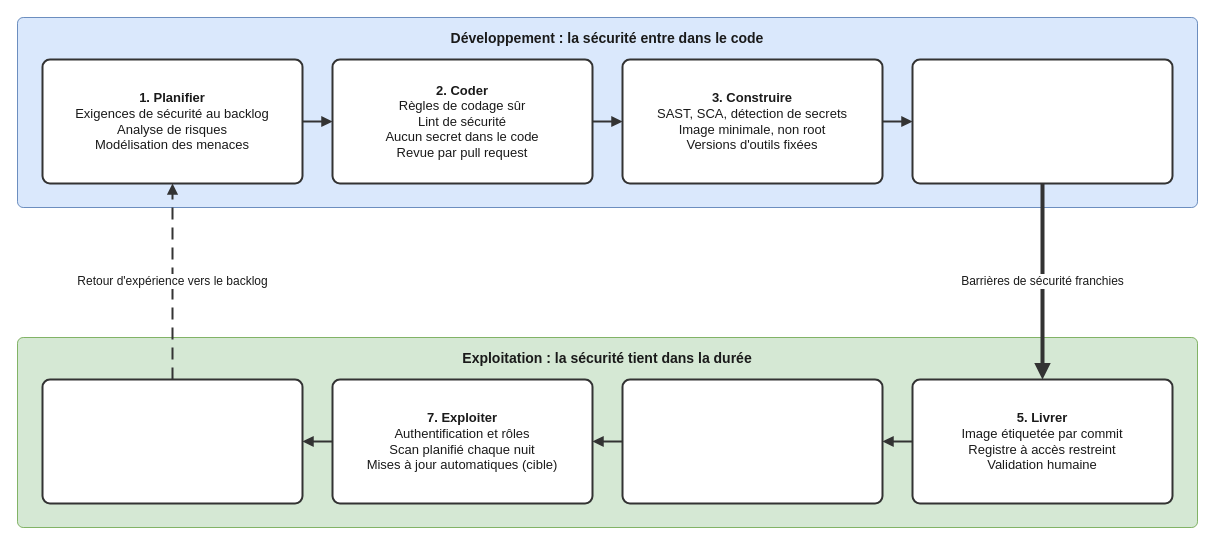
The diagram is 1215 pixels wide and 545 high, and some of its shapes have lost their labels. The centre of each missing label's shape, as x and y in pixels:
4. Tester Tests des contrôles d'accès Scan de l'image DAST (cible): point (1042, 121)
6. Déployer Secrets du cluster HTTPS, NetworkPolicy Moindre privilège: point (752, 441)
8. Surveiller Métriques Journaux et alertes (cible) Risques acceptés revus: point (172, 441)
